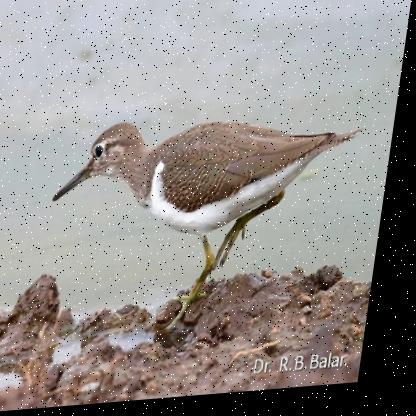Burung: (40, 106, 372, 347)
